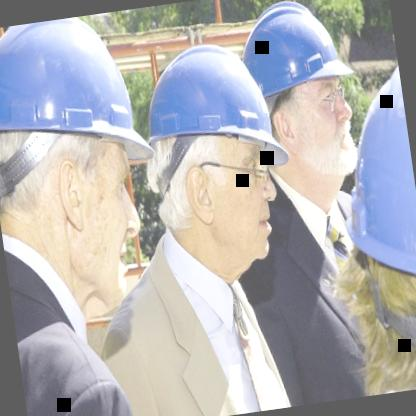helmet: (122, 4, 310, 324), (0, 9, 172, 335), (305, 29, 416, 395), (226, 0, 375, 216)
